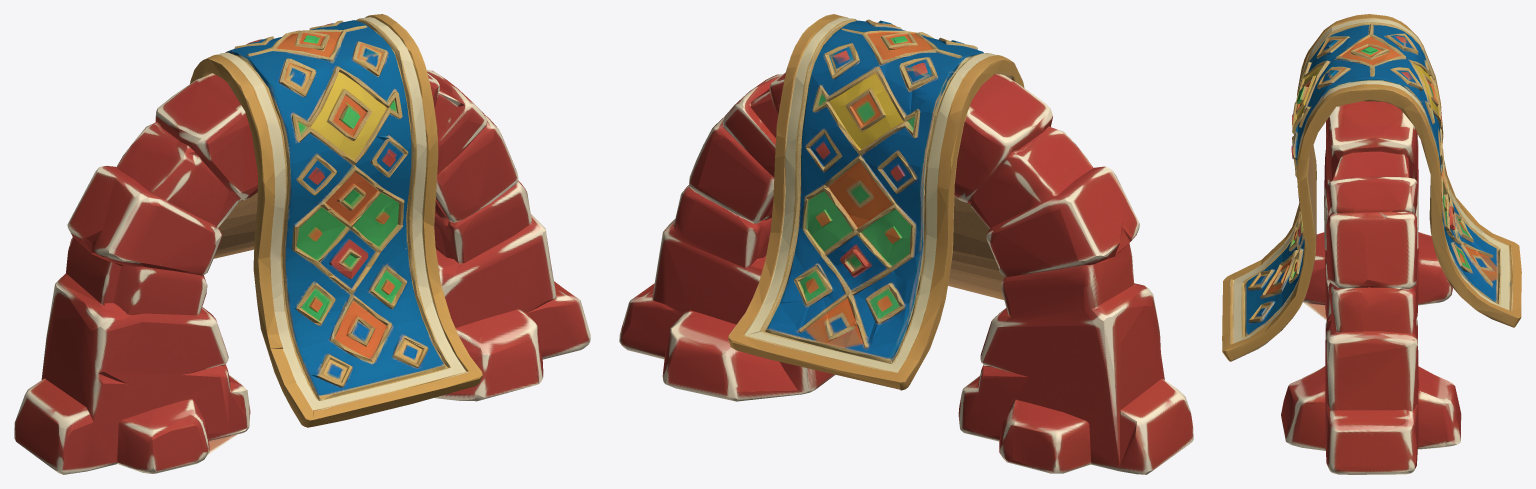
Rendered from rug-canyon.glb.
3 views of the same model, side by side, from view 1: azimuth 30°, elevation 25°; view 2: azimuth 150°, elevation 25°; view 3: azimuth 270°, elevation 25° (orthographic). The views are drawn at different scales.
Bounding box in the file's own units: 1.9 × 1.21 × 1.04.
Materials: 1 (1 with a texture image).
